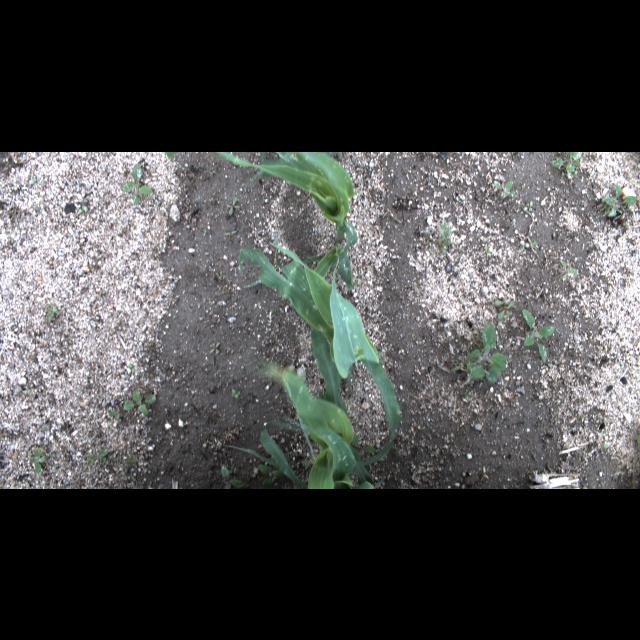crop: (238, 244, 400, 461), (218, 151, 358, 287), (232, 362, 374, 488)
weed: (464, 320, 510, 388), (520, 306, 562, 366), (115, 161, 154, 207), (120, 386, 158, 418), (602, 185, 638, 218), (550, 152, 586, 176), (489, 173, 518, 201), (82, 446, 116, 469), (435, 220, 455, 253), (493, 294, 515, 318), (558, 256, 582, 278), (106, 400, 130, 422), (219, 464, 245, 484), (42, 299, 62, 323), (31, 444, 45, 476), (225, 192, 241, 215), (218, 223, 240, 239), (75, 198, 93, 216), (519, 238, 539, 252), (125, 360, 139, 380), (522, 194, 536, 212), (210, 340, 222, 358), (229, 386, 241, 402), (29, 172, 39, 186)
